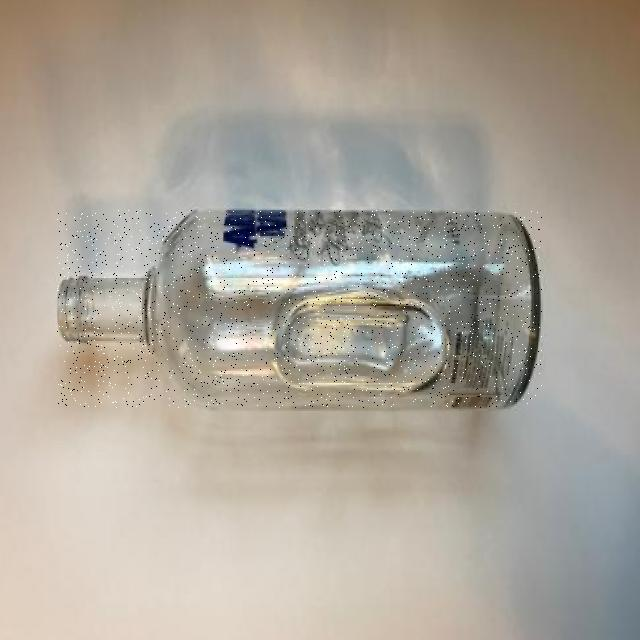glass: (58, 210, 542, 408)
